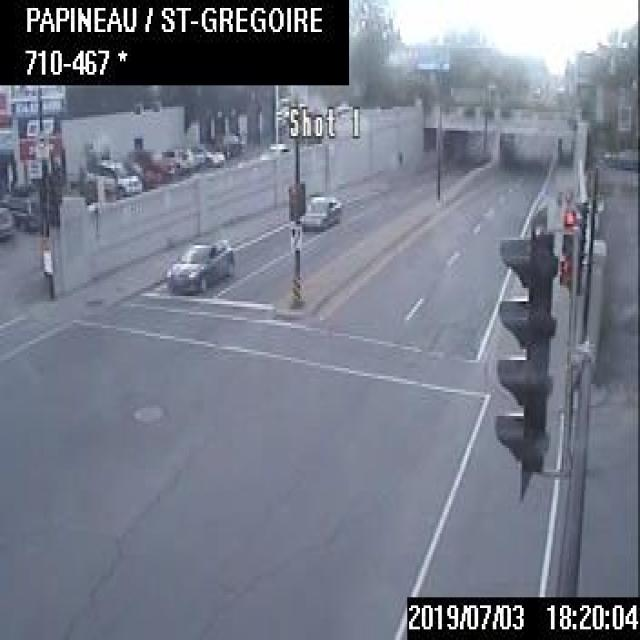vehicle: (164, 237, 232, 291), (86, 155, 142, 194), (300, 191, 341, 229), (0, 192, 40, 229), (140, 148, 177, 176), (192, 142, 224, 167), (0, 206, 13, 238)
